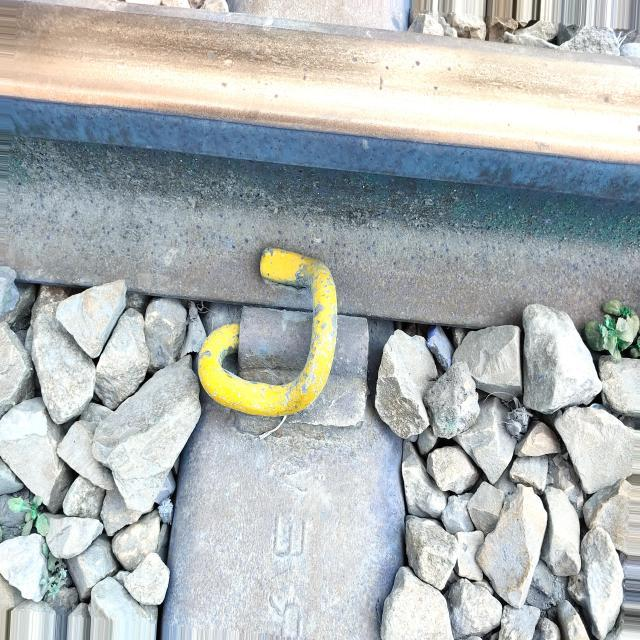Good Fasteners: (197, 249, 369, 426)
